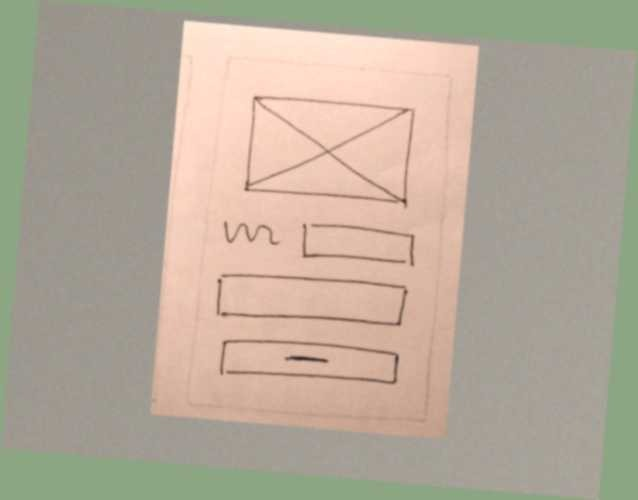button: (209, 331, 405, 394)
image: (234, 86, 423, 215)
text: (216, 212, 286, 251)
text_input: (208, 266, 413, 335), (294, 215, 426, 276)
